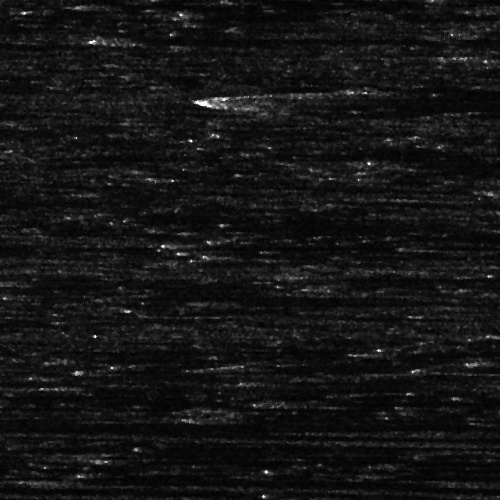object: (89, 33, 172, 44), (68, 453, 161, 462), (39, 381, 102, 390), (67, 2, 150, 7), (197, 299, 238, 304), (158, 240, 189, 245)
shadow: (130, 33, 476, 44), (108, 2, 368, 7), (114, 453, 205, 462), (71, 381, 159, 390), (218, 299, 305, 304), (174, 240, 259, 245)
